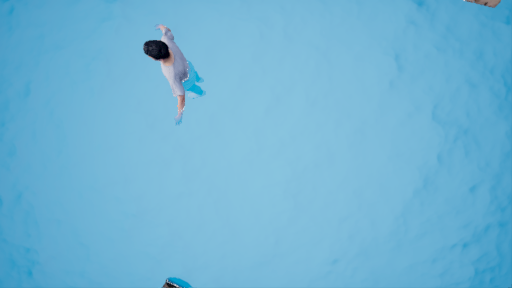person: (140, 19, 214, 132)
